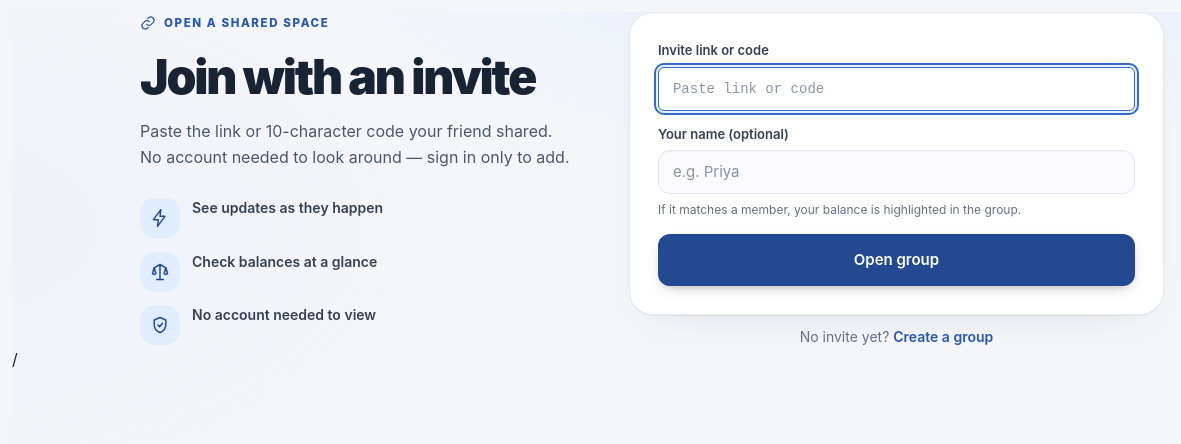
Test case: JoinGroup › reports unknown codes
In the field labelled "Invite link or code": (896, 88) [658,66,1135,110], type "ZZZZZZZZZZ"
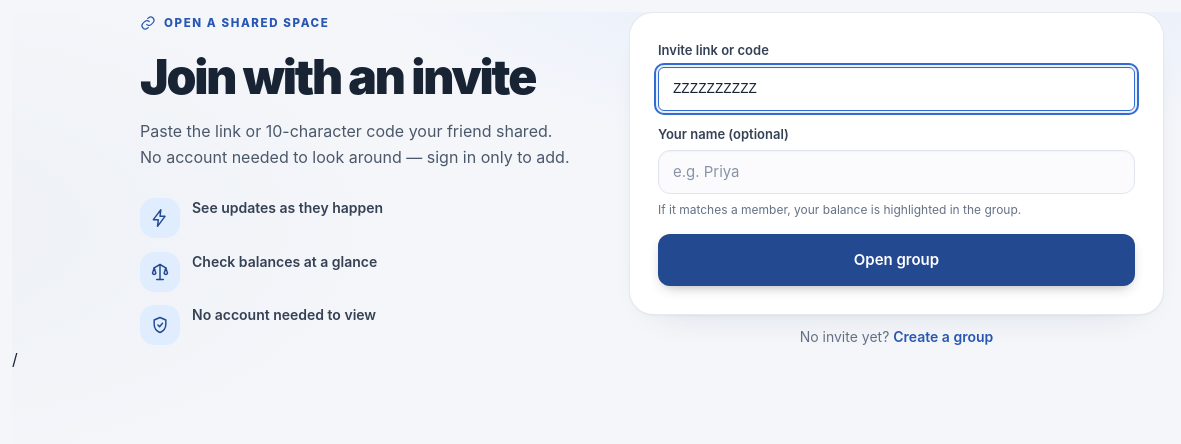
Click the button "Open group": click(896, 260) [658,234,1135,286]
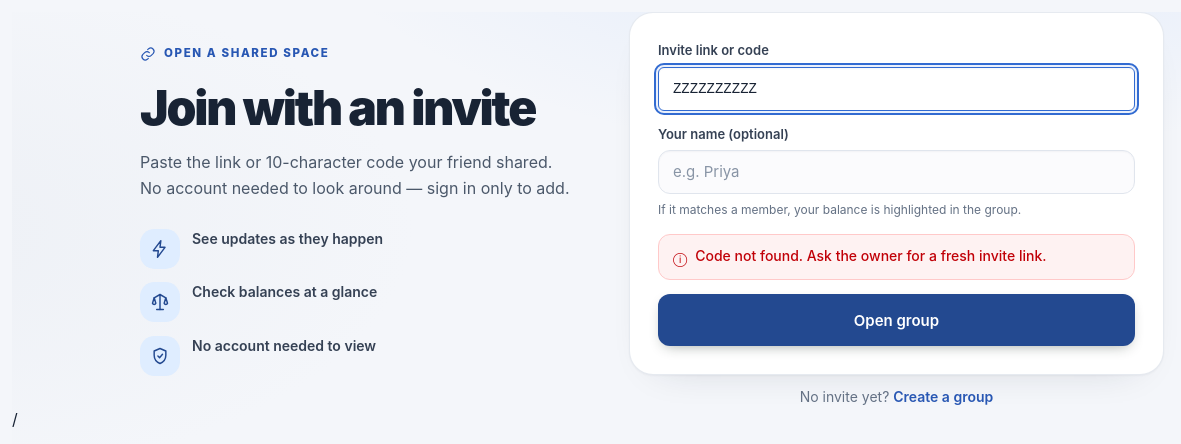
Check: the message shows "not found", box [695,246,1046,264]
